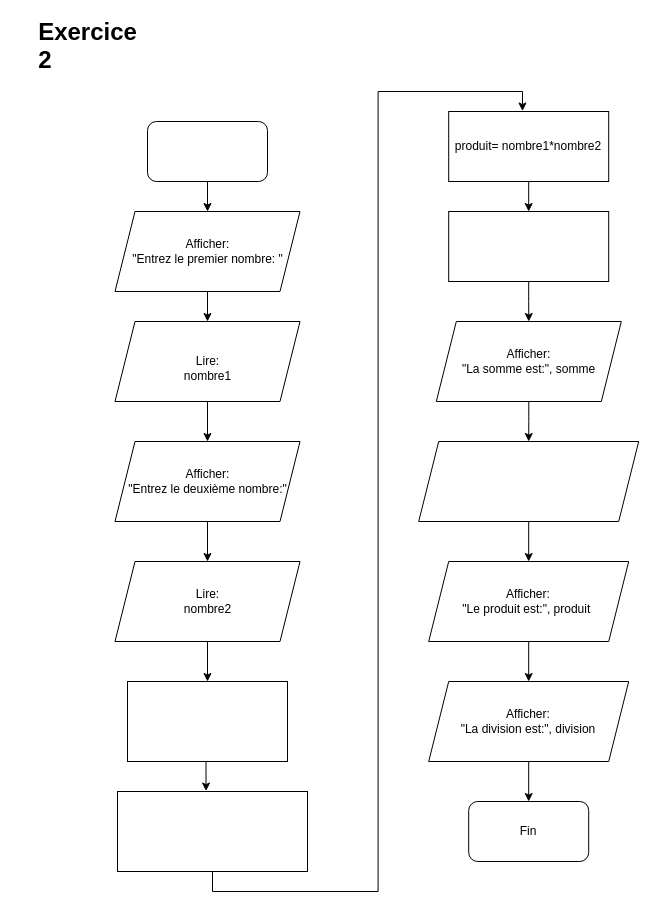
The diagram is 656 pixels wide and 917 high, and some of its shapes have lost their labels. The centre of each missing label's shape, as x and y in pixels:
Afficher: "La soustraction est:",soustraction: (528,481)
division= nombre1/nombre2: (528,246)
Début: (207,151)
somme= nombre1+nombre2: (207,721)
soustraction= nombre1-nombre2: (212,831)
